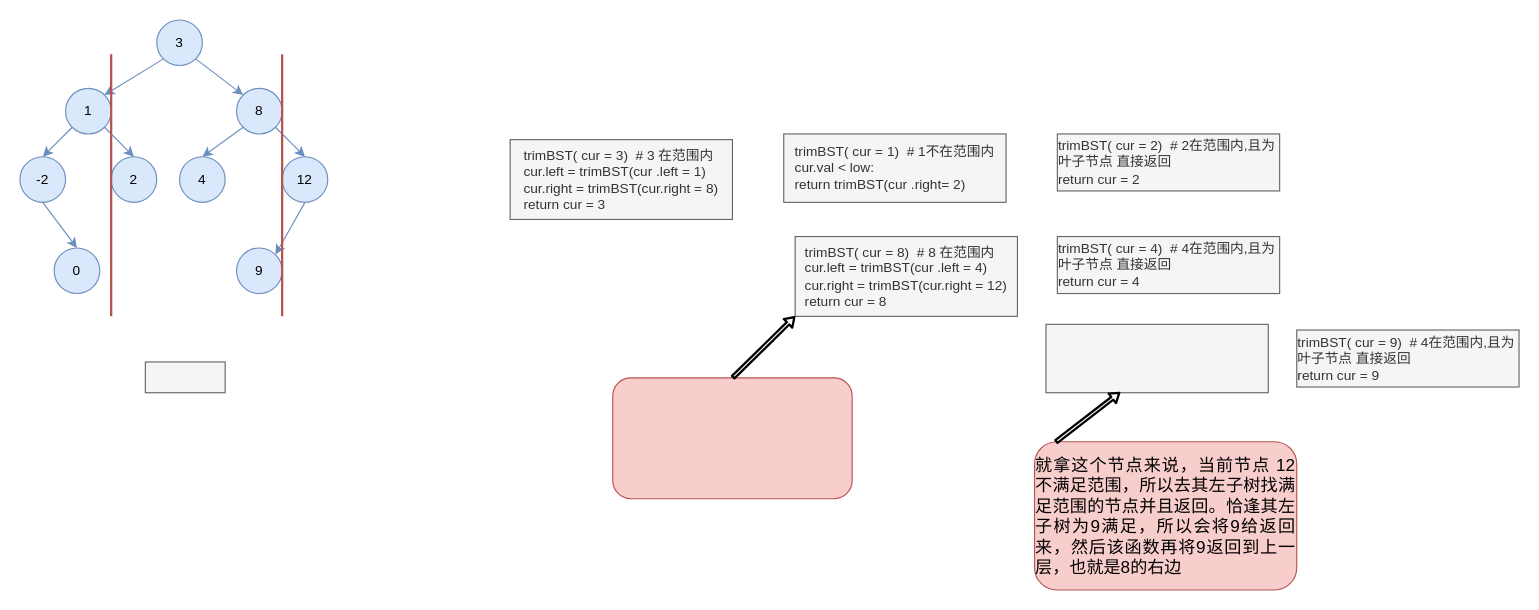
The diagram is 1539 pixels wide and 610 high, and some of its shapes have lost their labels. Each missing label, with the box of its shape:
low = 1.5 high = 10: (144, 361, 225, 393)
trimBST( cur = 12) # 12不 在范围内 cur.val >high: return trimBST(cur .left= 2): (1045, 323, 1268, 393)
就拿这个节点来说，当前节点 8 满足范围，所以不管其左右子树什么情况，都会将当前节点 8 给返回去.当然左右子树的情况还是要去查看的: (612, 377, 852, 499)
